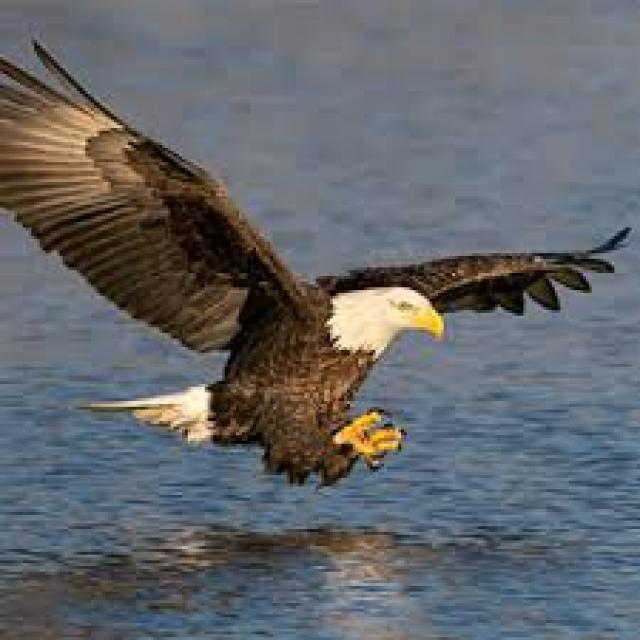Eagle: (1, 40, 632, 488)
